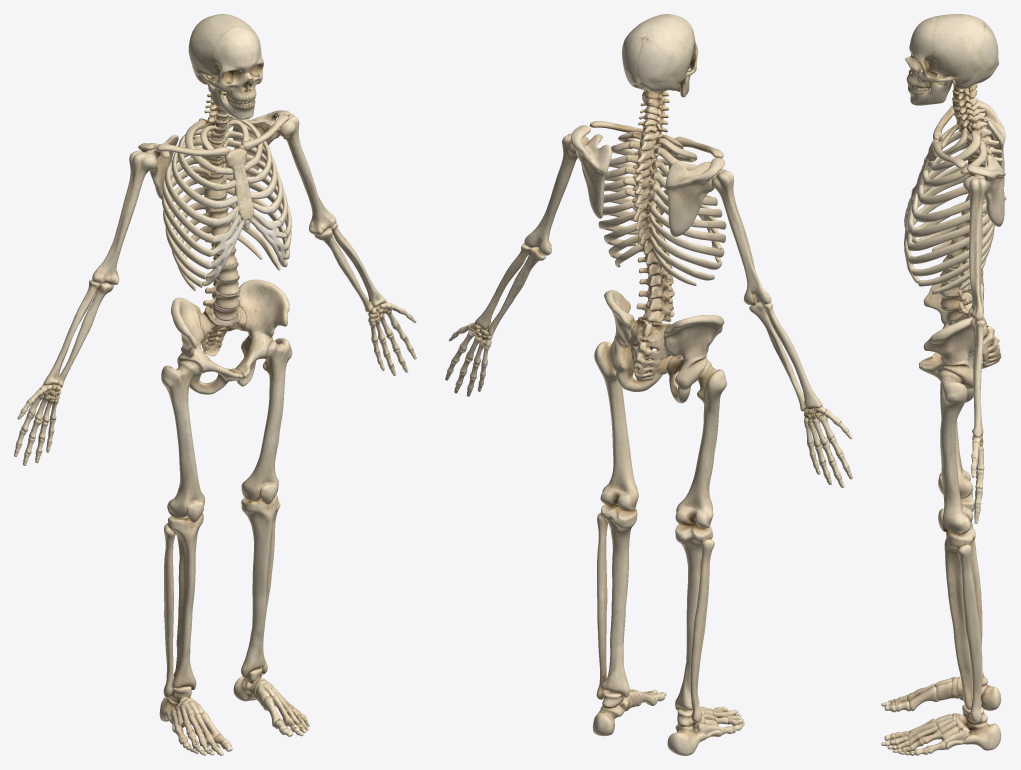
File: human-skeleton.glb
The picture shows the model from 3 angles, left to right: view 1: azimuth 30°, elevation 25°; view 2: azimuth 150°, elevation 25°; view 3: azimuth 270°, elevation 25°; orthographic projection.
Parts seen in each view (by area): view 1: human-skeleton; view 2: human-skeleton; view 3: human-skeleton.
Part boxes in pixels (x1=…): human-skeleton: x1=14, y1=14, x2=416, y2=755; human-skeleton: x1=445, y1=14, x2=852, y2=755; human-skeleton: x1=881, y1=14, x2=1006, y2=755.
Size of the model in its own units: 1.05 by 1.75 by 0.2796.
Materials: 1 (1 with a texture image).
